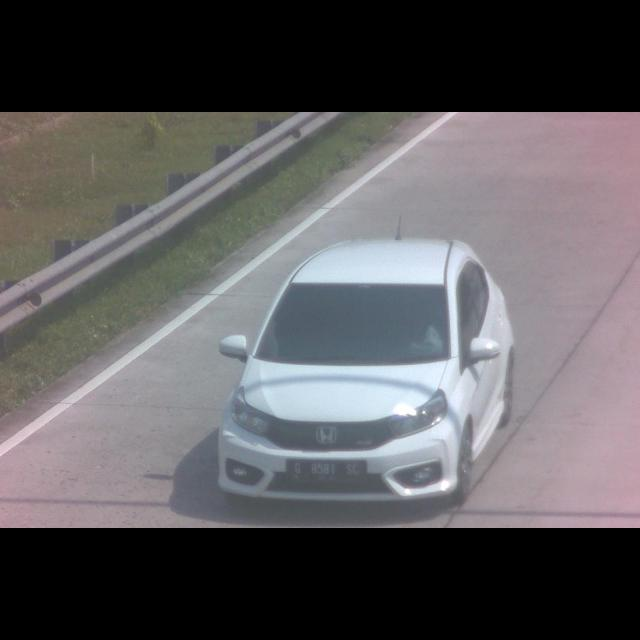plate: (284, 458, 368, 484)
